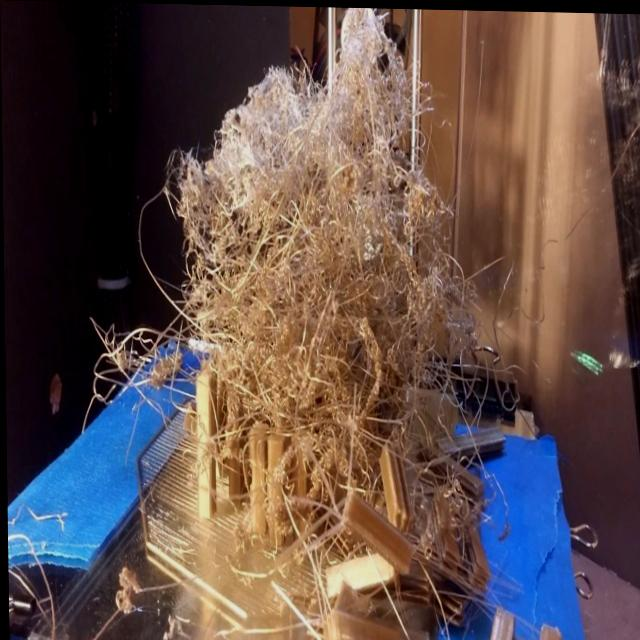spaghetti: (74, 22, 491, 640), (5, 461, 130, 640)
